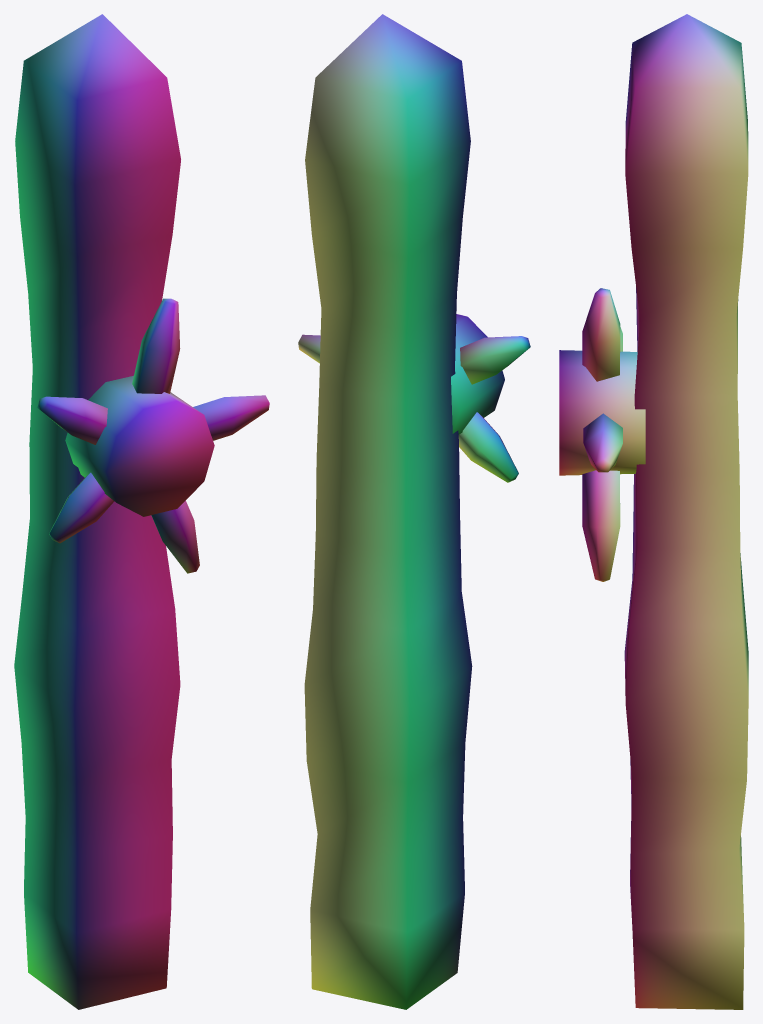
Rendered from SM_Palisade_March_Pew_C.fbx.
The picture shows the model from 3 angles, left to right: view 1: azimuth 30°, elevation 25°; view 2: azimuth 150°, elevation 25°; view 3: azimuth 270°, elevation 25°; orthographic projection.
Visible parts, largest first — view 1: SM_Palisade_March_Pew_C; view 2: SM_Palisade_March_Pew_C; view 3: SM_Palisade_March_Pew_C.
Boxes of the visible parts, box(x1,y1,x2,y2) form: SM_Palisade_March_Pew_C: box(14, 14, 269, 1009); SM_Palisade_March_Pew_C: box(298, 14, 530, 1009); SM_Palisade_March_Pew_C: box(559, 14, 748, 1009).
Bounding box in the file's own units: 0.382 × 1.54 × 0.2709.
